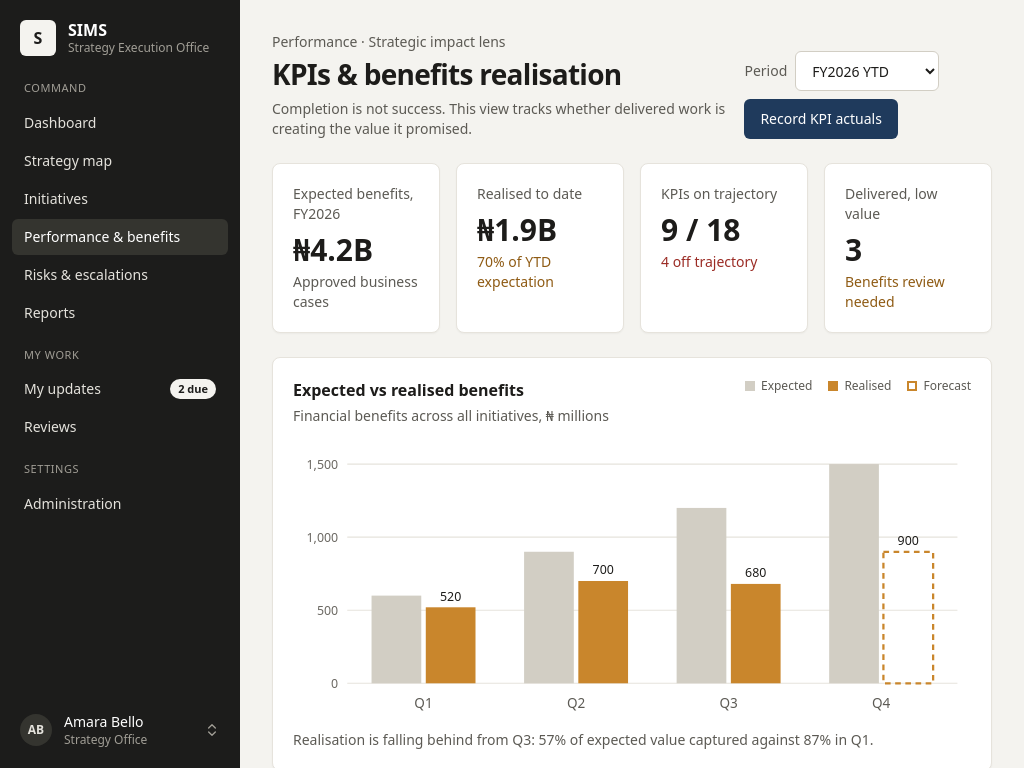
Test: KPIs & benefits realisation › switches the year through the URL
This screenshot has width=1024, height=768.
Select "FY2025" in the dropdown labelled "Period" at coordinates (867, 71), box [795,51,939,91]
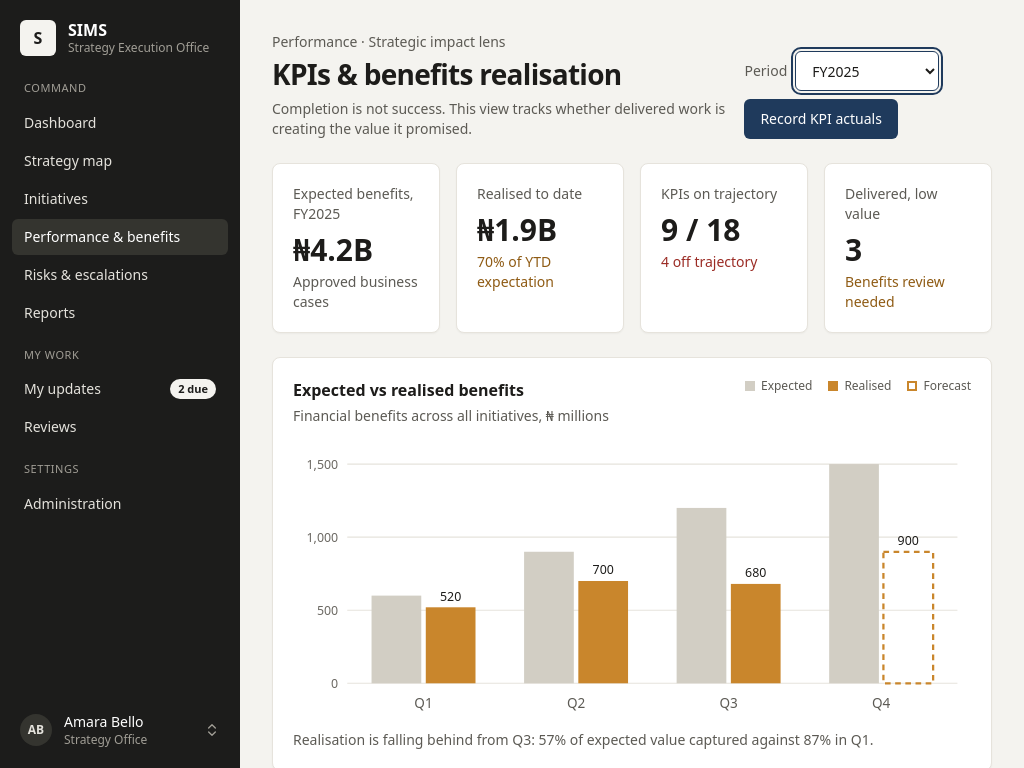
Check: the text "Expected benefits, FY2025" is shown, box [293,184,419,224]
